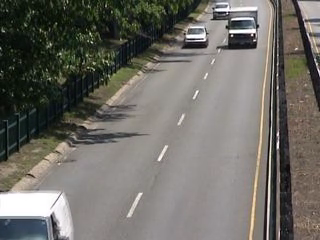car: (184, 25, 211, 48), (211, 1, 232, 22)
truck: (1, 185, 80, 238), (226, 6, 261, 47)
